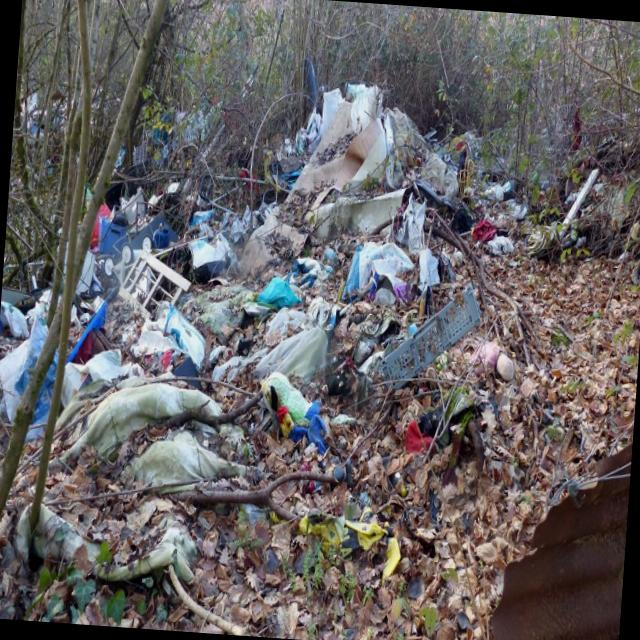garbage: (0, 41, 530, 568)
